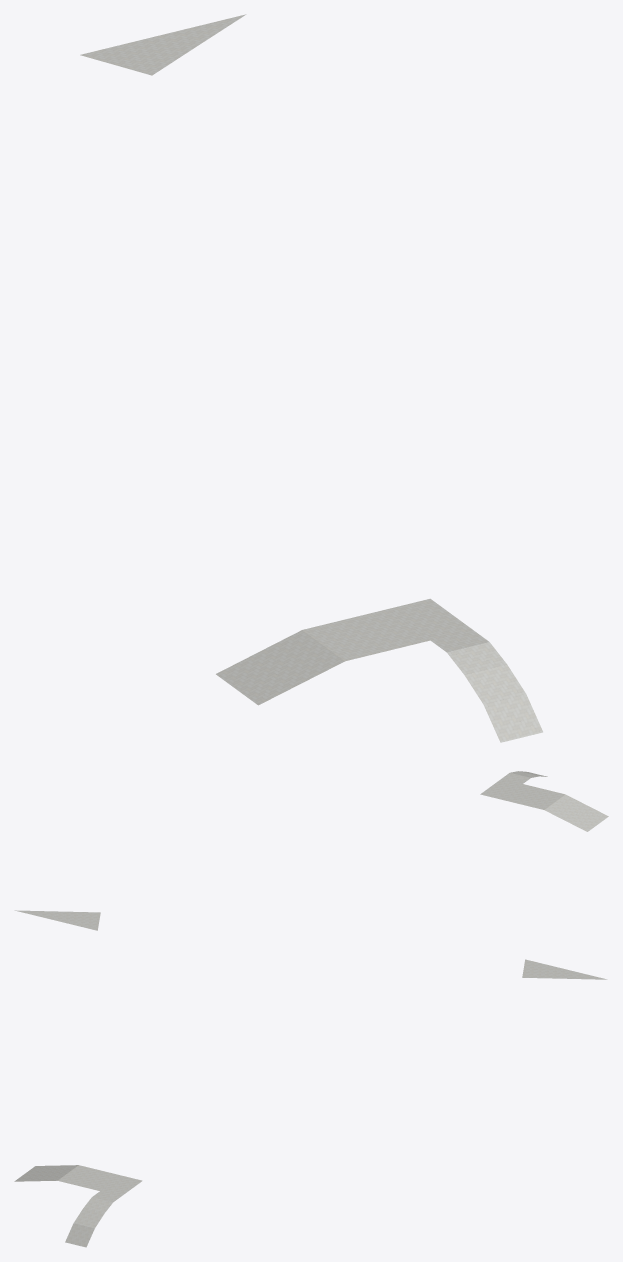
Rendered from kd_stage_1363c5_9_25_bounded.glb.
The picture shows the model from 3 angles, top to bottom: view 1: azimuth 30°, elevation 25°; view 2: azimuth 150°, elevation 25°; view 3: azimuth 330°, elevation 25°; orthographic projection. The views are drawn at different scales.
Parts seen in each view (by area): view 1: kd_stage_1363c5_9_25_bounded; view 2: kd_stage_1363c5_9_25_bounded; view 3: kd_stage_1363c5_9_25_bounded.
Part boxes in pixels (left/top/right/bottom): kd_stage_1363c5_9_25_bounded: left=80, top=14, right=542, bottom=742; kd_stage_1363c5_9_25_bounded: left=14, top=771, right=608, bottom=930; kd_stage_1363c5_9_25_bounded: left=14, top=959, right=607, bottom=1247.
Size of the model in its own units: 49.02 by 10.8 by 96.62.
Materials: 1 (1 with a texture image).
